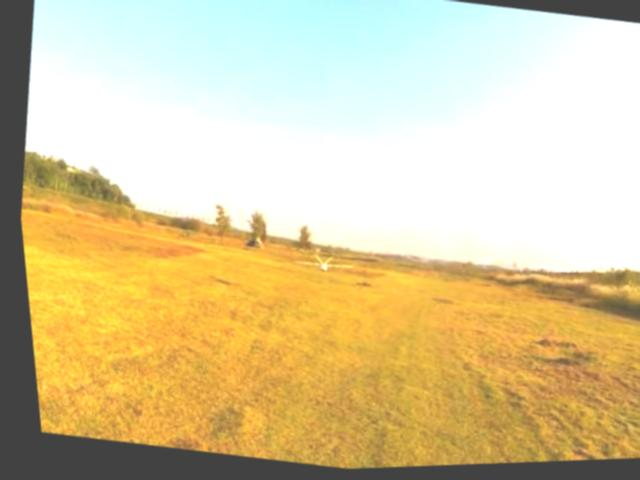uav: (279, 238, 357, 290)
